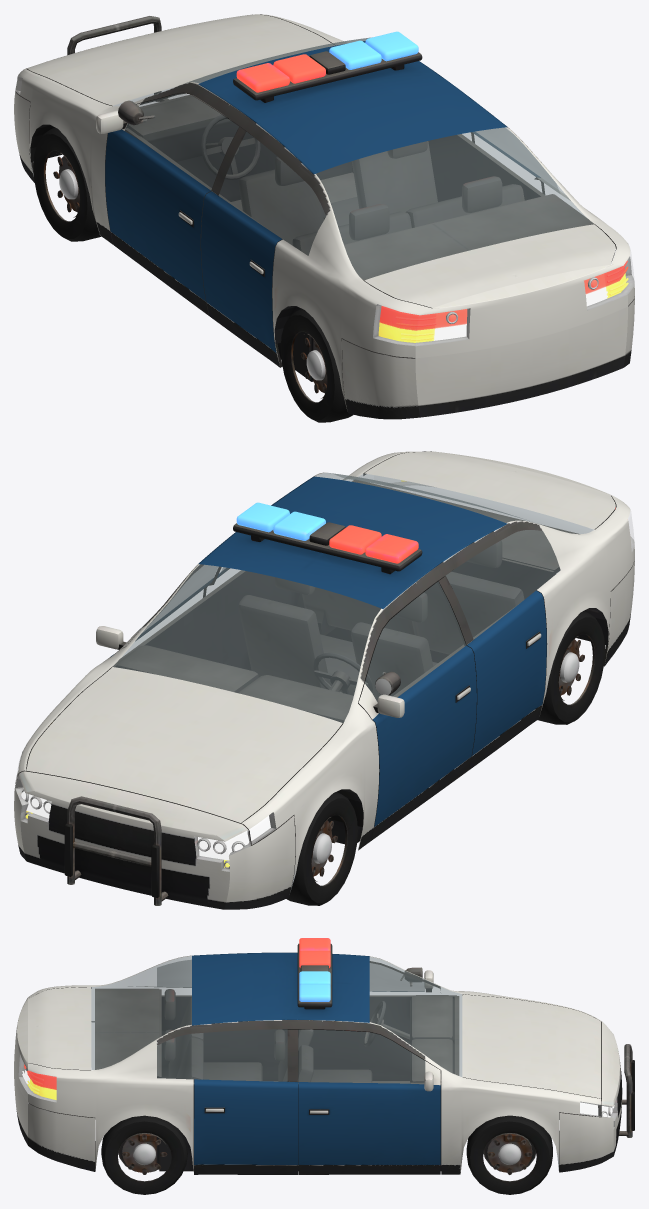
The model's file is police_cruiser.glb.
3 renders of one model, top to bottom at view 1: azimuth 30°, elevation 25°; view 2: azimuth 150°, elevation 25°; view 3: azimuth 270°, elevation 25°, orthographic. The views are drawn at different scales.
Visible parts, largest first — view 1: lod0, window_rear, door_fl, bumper_r, hood, trunk, window_l, light_bar, wheel_rl_mesh, wheel_fl_mesh, bumper_f, window_r (+2 smaller); view 2: lod0, hood, bumper_f, window_front, door_fl, trunk, window_l, light_bar, wheel_fl_mesh, wheel_rl_mesh, window_rear, door_fr (+2 smaller); view 3: lod0, door_fr, hood, window_rear, window_front, window_r, bumper_f, trunk, wheel_fr, wheel_rr, bumper_r, light_bar (+3 smaller).
Part boxes in pixels (left/top/right/bottom): lod0: left=15, top=14, right=634, bottom=411; window_rear: left=316, top=127, right=593, bottom=279; door_fl: left=96, top=93, right=240, bottom=315; bumper_r: left=342, top=296, right=634, bottom=419; hood: left=26, top=14, right=334, bottom=106; trunk: left=364, top=224, right=615, bottom=308; window_l: left=219, top=132, right=325, bottom=255; light_bar: left=118, top=31, right=422, bottom=125; wheel_rl_mesh: left=280, top=309, right=353, bottom=422; wheel_fl_mesh: left=33, top=127, right=101, bottom=241; bumper_f: left=14, top=16, right=168, bottom=182; window_r: left=473, top=128, right=559, bottom=193; lod0: left=15, top=451, right=634, bottom=895; hood: left=26, top=667, right=342, bottom=823; bumper_f: left=14, top=771, right=295, bottom=909; window_front: left=112, top=564, right=380, bottom=722; door_fl: left=358, top=581, right=476, bottom=840; trunk: left=364, top=451, right=615, bottom=529; window_l: left=446, top=530, right=560, bottom=639; light_bar: left=233, top=502, right=422, bottom=695; wheel_fl_mesh: left=286, top=792, right=357, bottom=905; wheel_rl_mesh: left=538, top=611, right=605, bottom=724; window_rear: left=316, top=472, right=593, bottom=534; door_fr: left=96, top=564, right=217, bottom=657; lod0: left=14, top=952, right=601, bottom=1174; door_fr: left=298, top=1029, right=440, bottom=1174; hood: left=462, top=994, right=601, bottom=1098; window_rear: left=91, top=956, right=191, bottom=1069; window_front: left=369, top=957, right=462, bottom=1076; window_r: left=157, top=1029, right=287, bottom=1081; bumper_f: left=559, top=1021, right=634, bottom=1172; trunk: left=17, top=987, right=91, bottom=1070; wheel_fr: left=466, top=1115, right=552, bottom=1194; wheel_rr: left=101, top=1115, right=187, bottom=1194; bumper_r: left=14, top=1021, right=95, bottom=1171; light_bar: left=297, top=938, right=422, bottom=1009.
Size of what is drawn, in the model's own units: 2.12 by 1.62 by 5.03.
13 materials, 11 textured.
